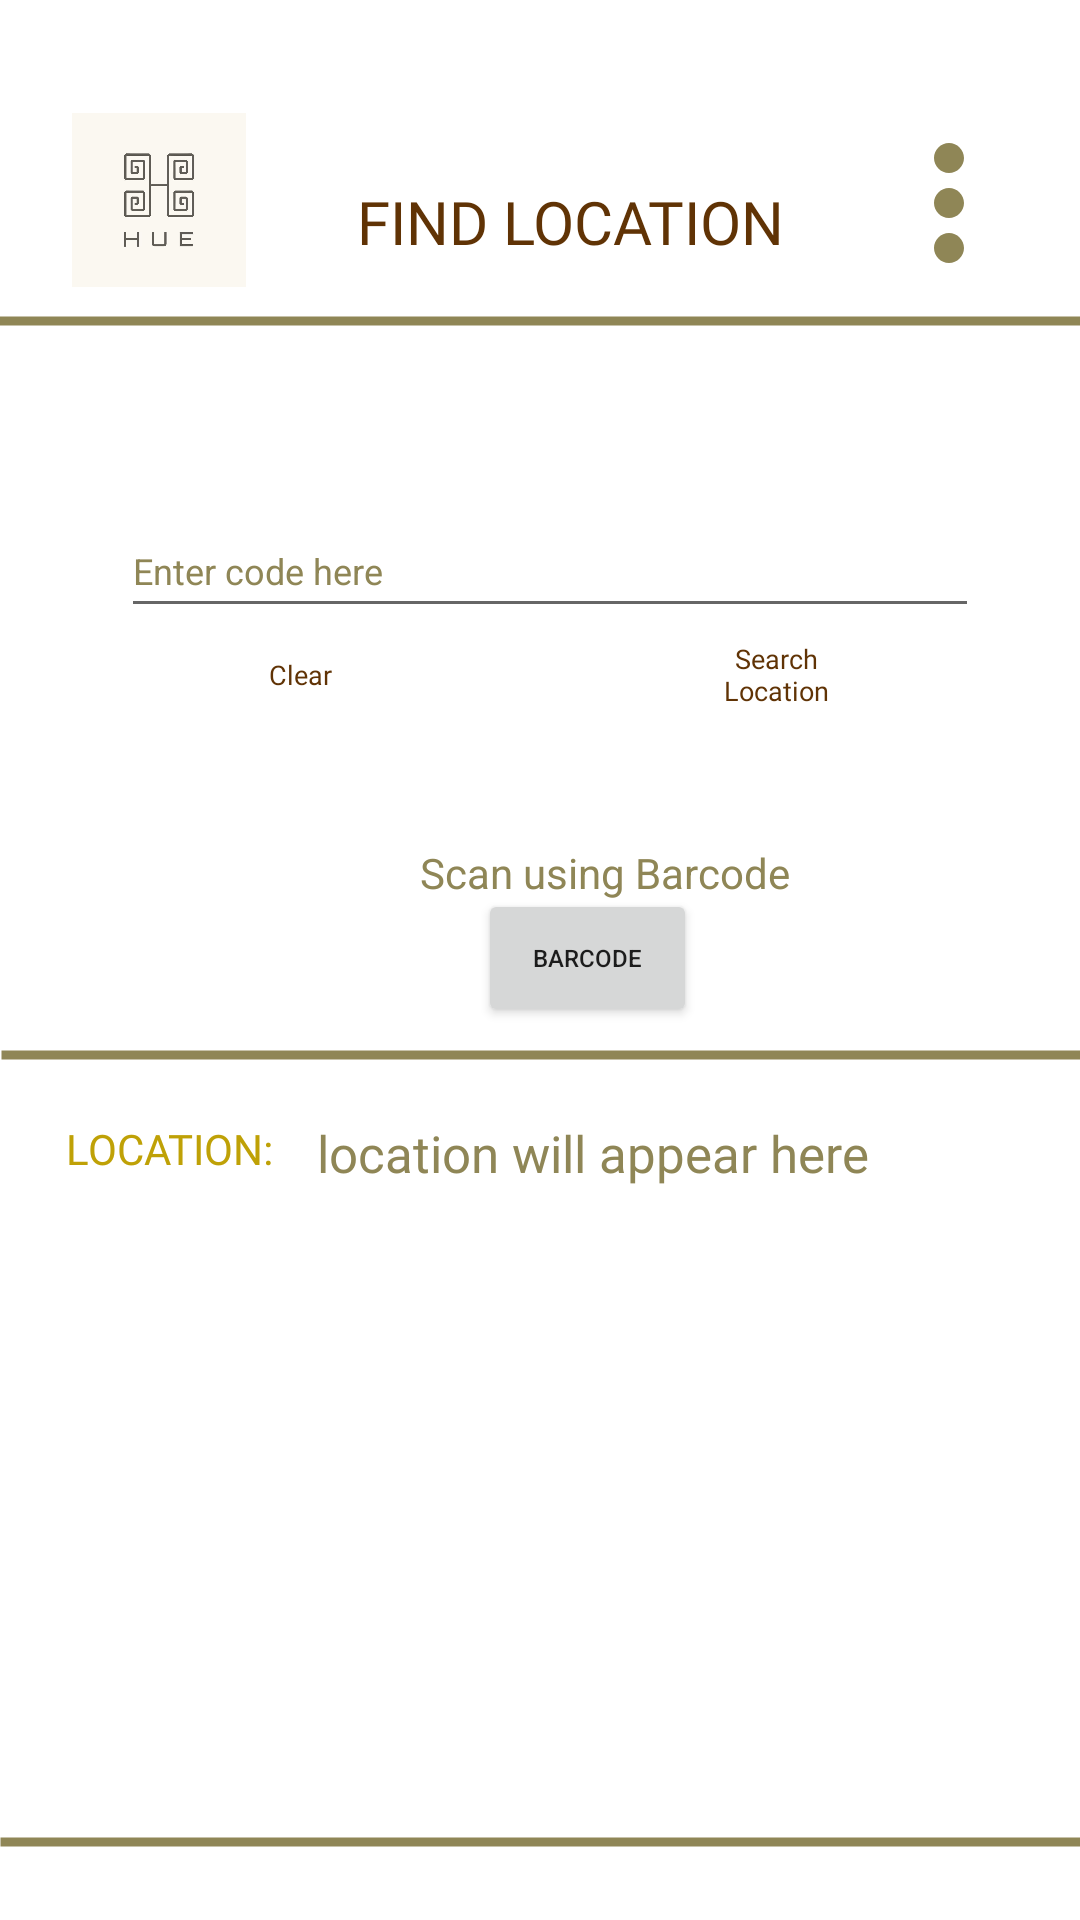

Screen size 1080 x 1920. Icon name, then its box in pixels as (x1, y1, x2, y2):
menu: (934, 143, 964, 263)
